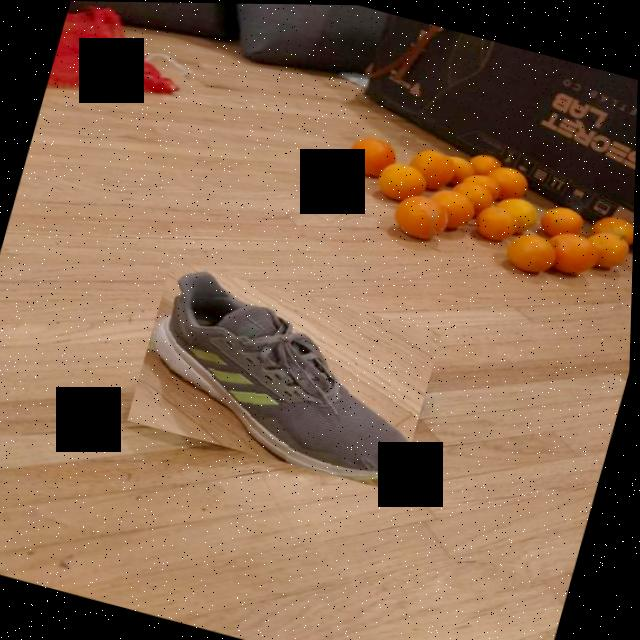shoe: (127, 260, 445, 491)
